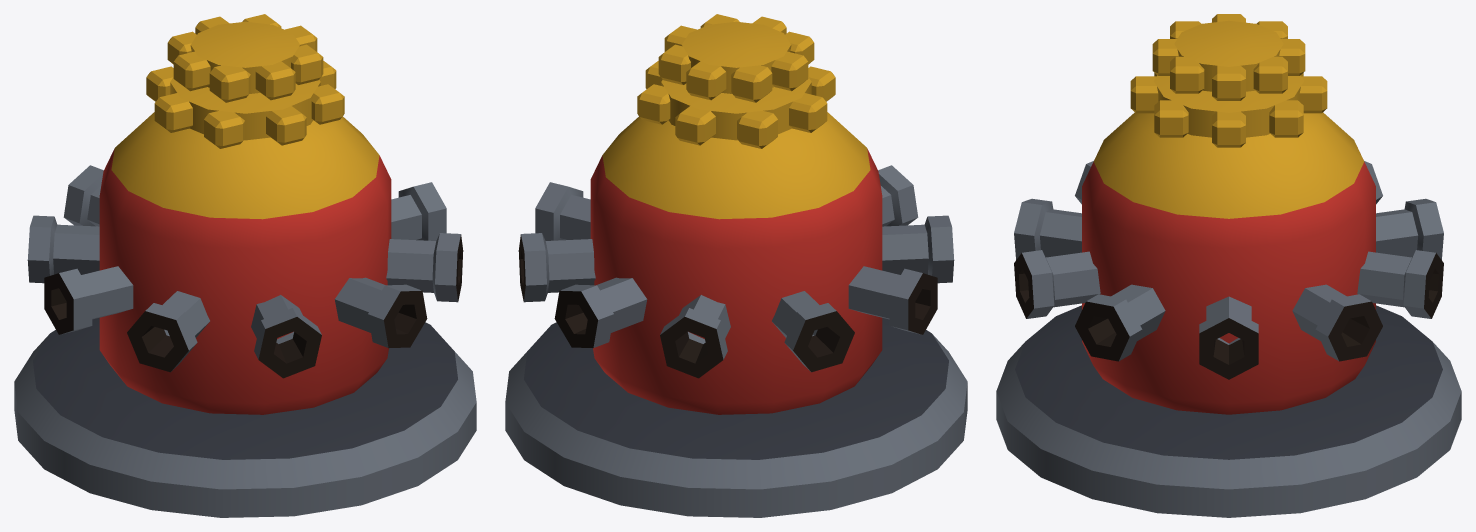
The picture shows the model from 3 angles, left to right: view 1: azimuth 30°, elevation 25°; view 2: azimuth 150°, elevation 25°; view 3: azimuth 270°, elevation 25°; orthographic projection.
Parts seen in each view (by area): view 1: tachinha_1_torreta, tachinha_0_base; view 2: tachinha_1_torreta, tachinha_0_base; view 3: tachinha_1_torreta, tachinha_0_base.
Boxes of the visible parts, x1,y1,x2,y2 form: tachinha_1_torreta: (27, 14, 463, 414); tachinha_0_base: (14, 318, 476, 517); tachinha_1_torreta: (518, 14, 954, 414); tachinha_0_base: (505, 318, 967, 517); tachinha_1_torreta: (1014, 14, 1443, 414); tachinha_0_base: (996, 305, 1461, 517).
Bounding box in the file's own units: 0.68 × 0.615 × 0.68.
